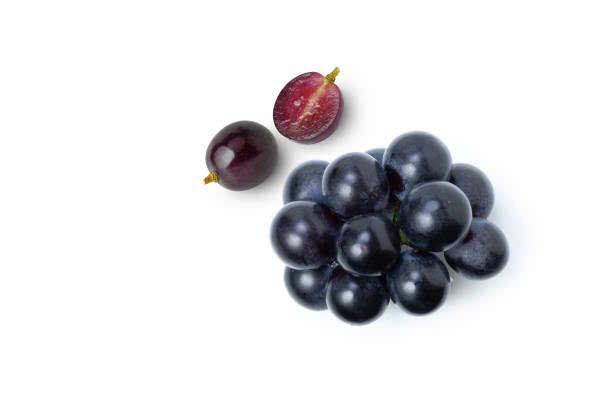grape: (266, 128, 514, 333), (191, 115, 280, 194), (270, 64, 356, 136)
